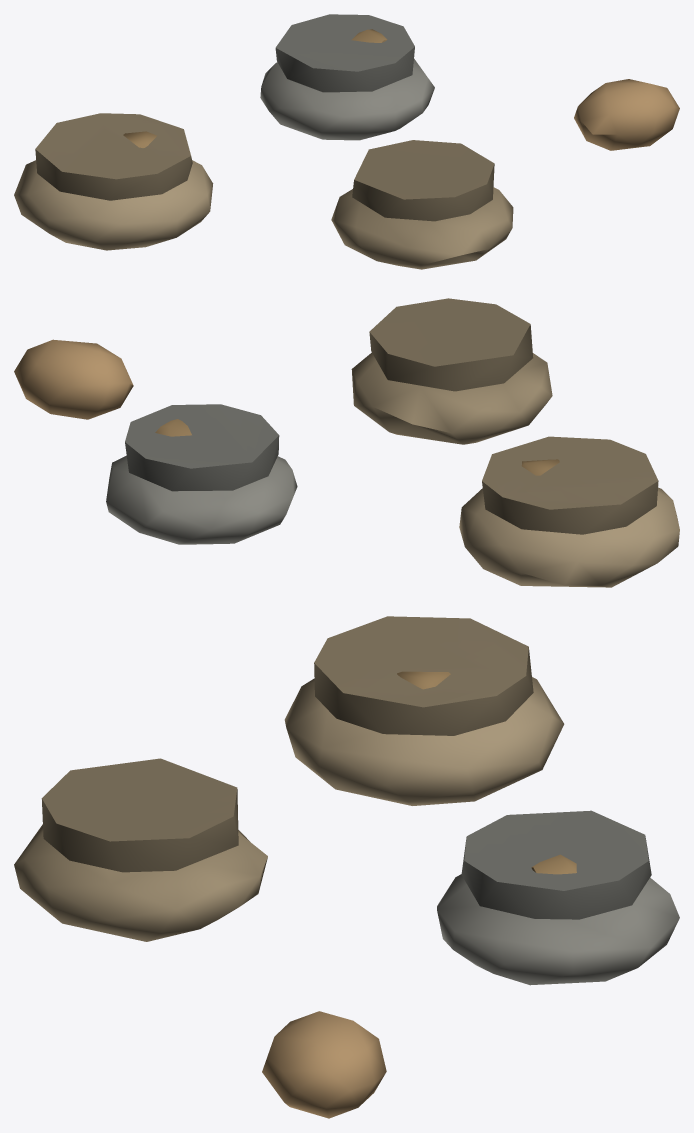
File: dish_stones_b_lod2.glb
The picture shows the model from 3 angles, top to bottom: view 1: azimuth 30°, elevation 25°; view 2: azimuth 150°, elevation 25°; view 3: azimuth 270°, elevation 25°; orthographic projection. The views are drawn at different scales.
Visible parts, largest first — view 1: Surface.001; view 2: Surface.001; view 3: Surface.001.
Part boxes in pixels (x1,y1,x2,y2): Surface.001: (14,14,679,269); Surface.001: (14,298,679,587); Surface.001: (14,616,679,1118).
Size of the model in its own units: 2.94 by 0.4244 by 2.
